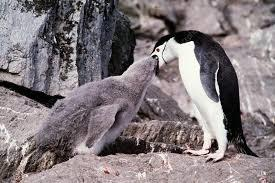chinstrap: (135, 30, 263, 169)
